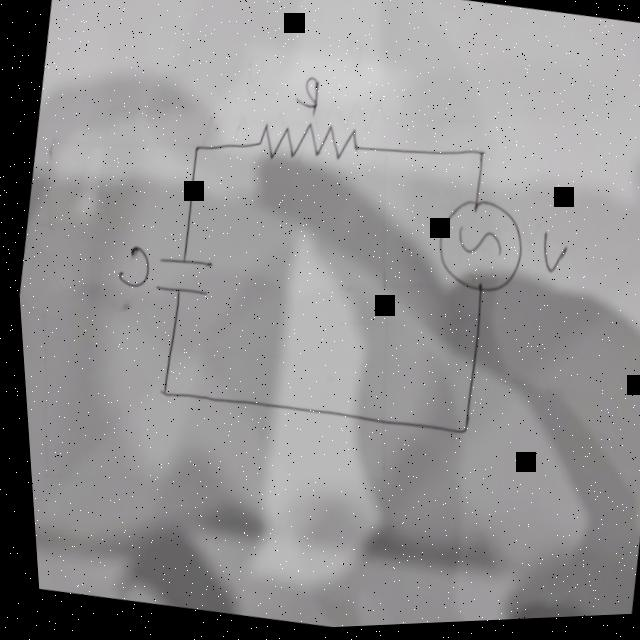capacitor: (145, 248, 213, 305)
junction: (186, 140, 206, 160), (470, 148, 489, 169), (150, 383, 168, 402), (451, 424, 468, 443)
resistor: (250, 112, 363, 177)
source: (423, 193, 531, 307)
text: (109, 241, 152, 294), (288, 74, 323, 123), (532, 235, 568, 281)
